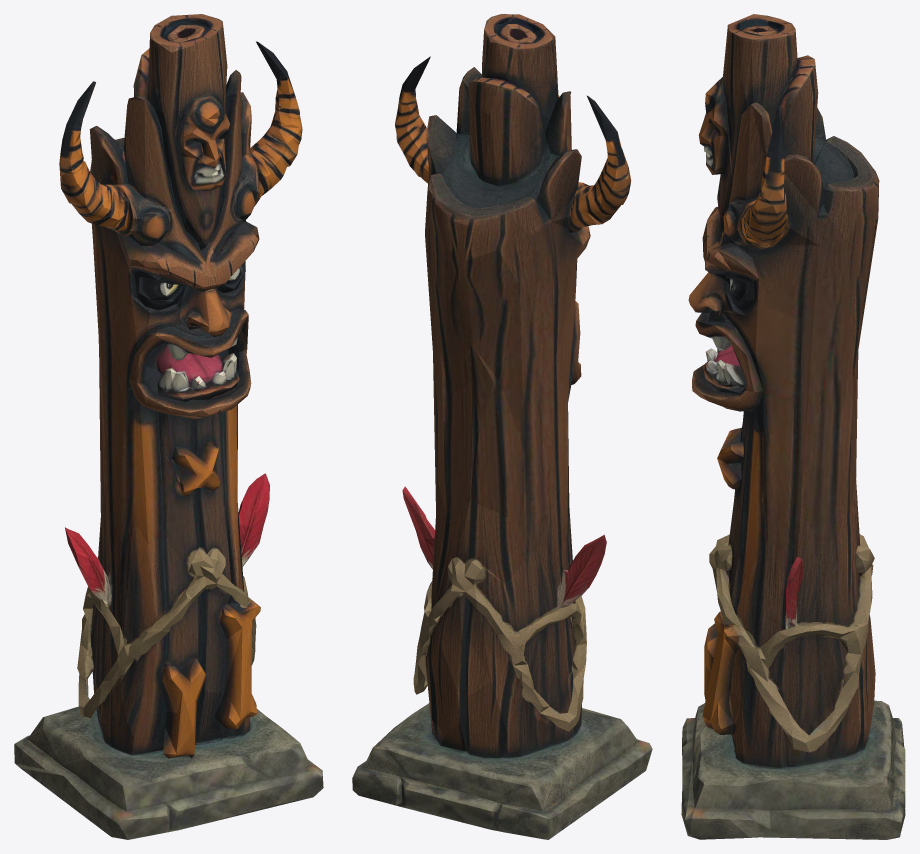
File: tribal-totem.hq.glb
3 renders of one model, left to right at view 1: azimuth 30°, elevation 25°; view 2: azimuth 150°, elevation 25°; view 3: azimuth 270°, elevation 25°, orthographic. The views are drawn at different scales.
Visible parts, largest first — view 1: output_unwrapped; view 2: output_unwrapped; view 3: output_unwrapped.
Part boxes in pixels (bbox=[...]): output_unwrapped: bbox=[14, 14, 323, 839]; output_unwrapped: bbox=[352, 14, 652, 839]; output_unwrapped: bbox=[681, 14, 905, 839].
Bounding box in the file's own units: 0.6158 × 1.9 × 0.5014.
Materials: 1 (1 with a texture image).
